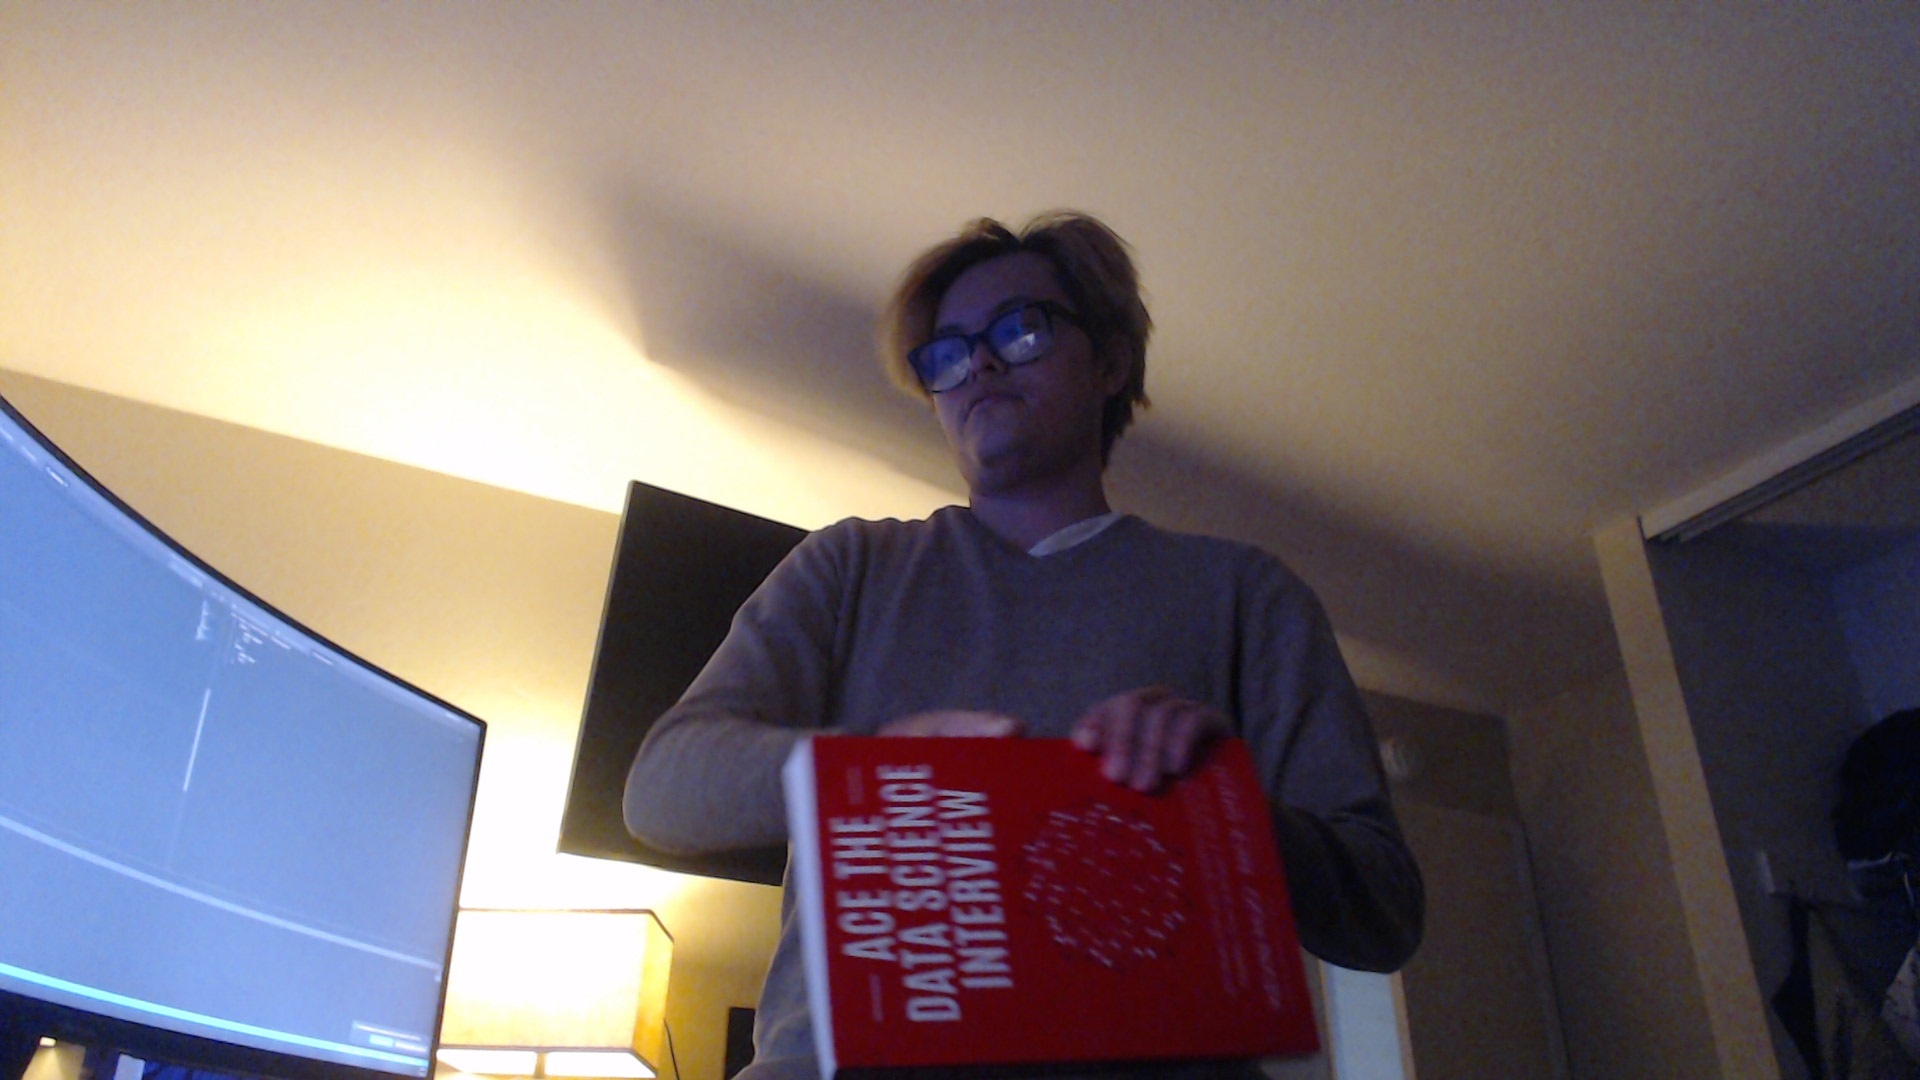book: (775, 736, 1317, 1080)
